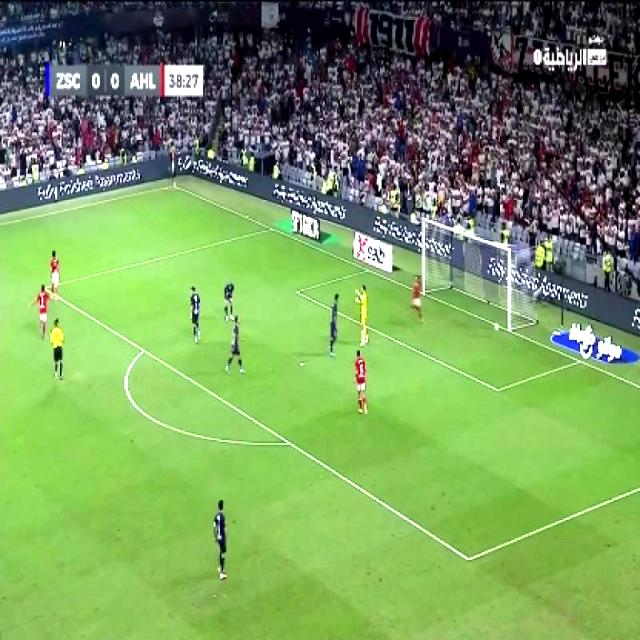bigarea_bottom_inner: (457, 542, 480, 572)
bigarea_top_inner: (36, 276, 55, 300)
bigarea_top_outter: (264, 220, 278, 235)
bottom_arc_area_intersection: (280, 429, 298, 454)
corner: (166, 178, 182, 192)
smallarea_bottom_inner: (486, 374, 508, 402)
smallarea_bottom_outter: (570, 351, 588, 369)
smallarea_top_inner: (290, 282, 304, 300)
smallarea_top_outter: (357, 260, 377, 278)
top_arc_area_intersection: (134, 338, 151, 360)
